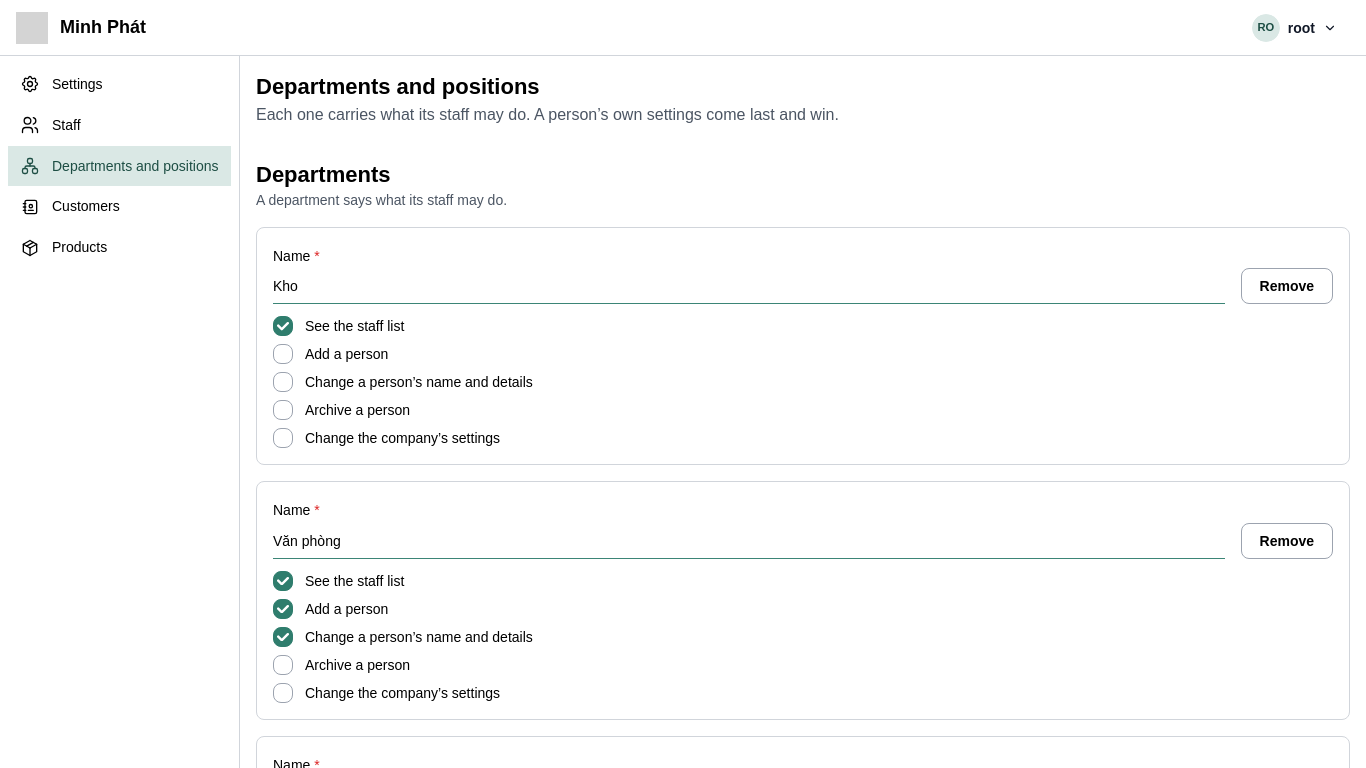
Test case: the staff setup page › A save that fails says so and keeps what was typed
Check: the heading "Departments and positions" is shown, box [256,74,540,99]
In the 1st field showing "Kho": (749, 286) [273,268,1224,304], type " 2"
(page scrolled)
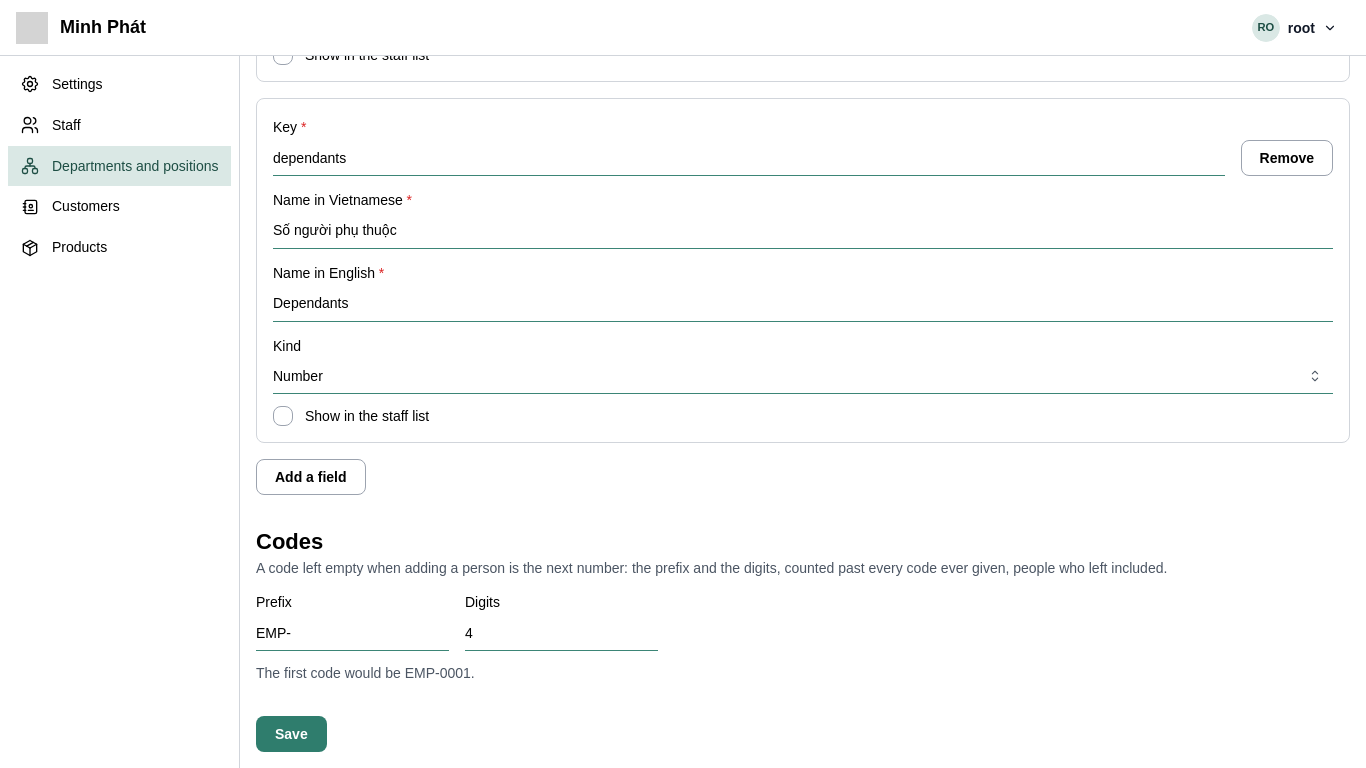
Click the button "Save": click(291, 734) [256,716,327,752]
(page scrolled)
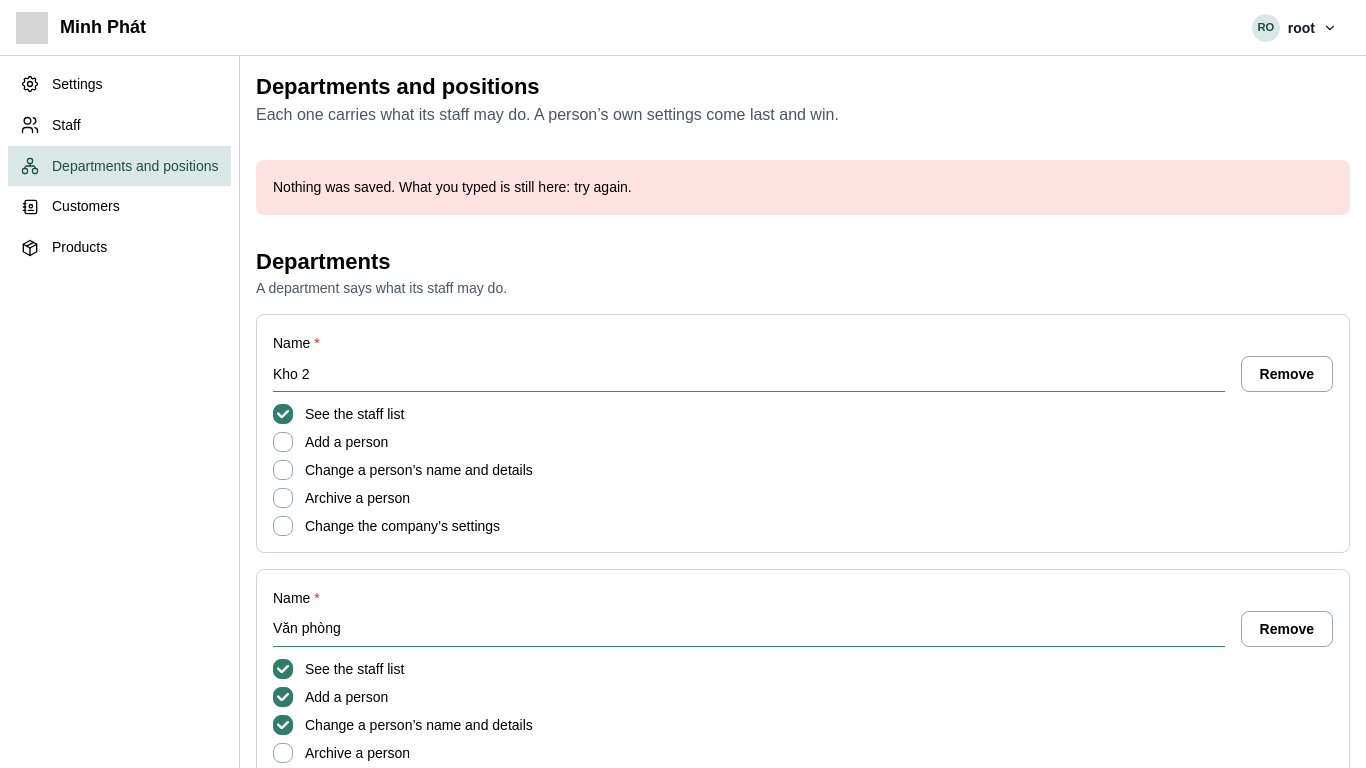
Check: the 1st field showing "Kho 2" is shown, box [273,356,1224,392]
Check: the message shows "Nothing was saved", box [273,179,632,195]
